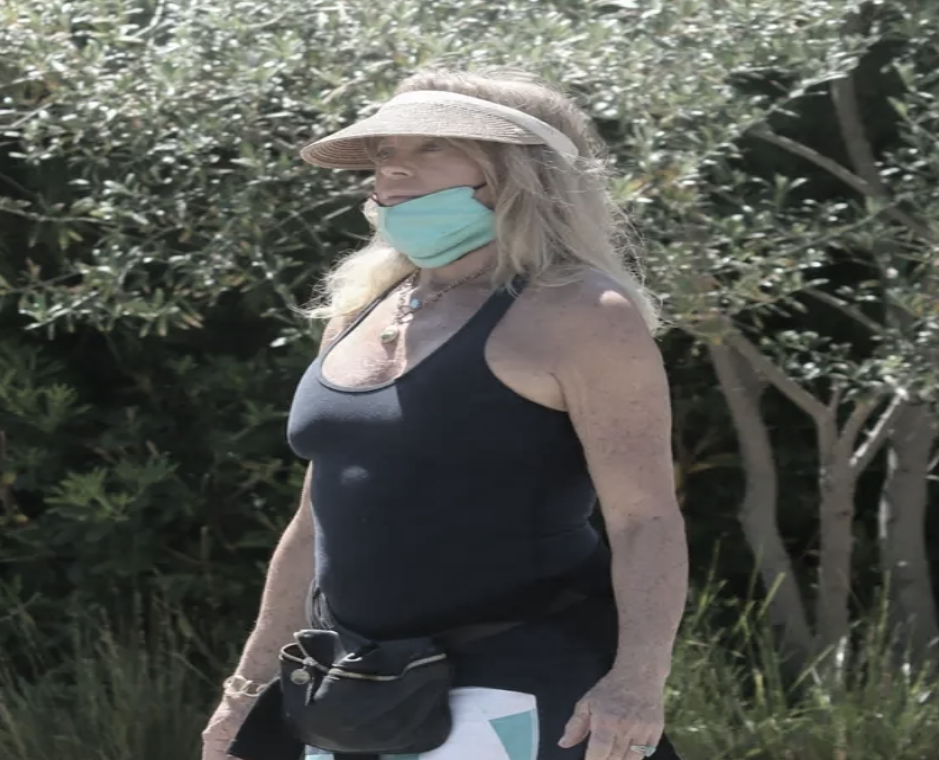mask_weared_incorrect: (314, 72, 594, 275)
